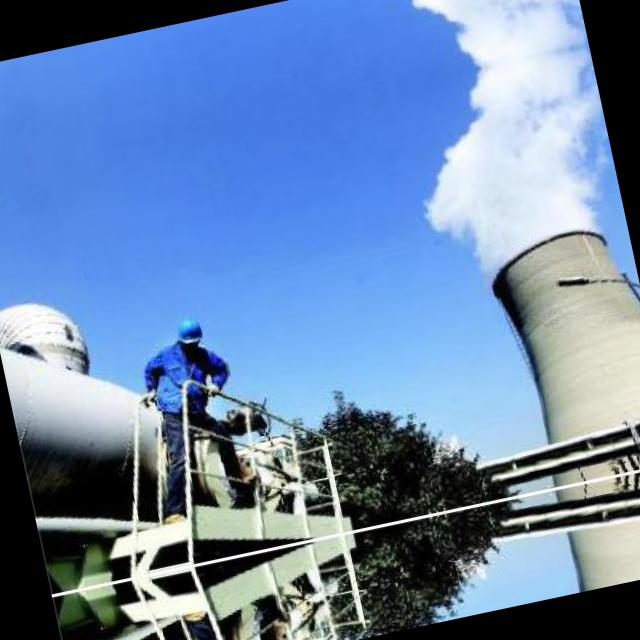helmet: (169, 312, 208, 352)
